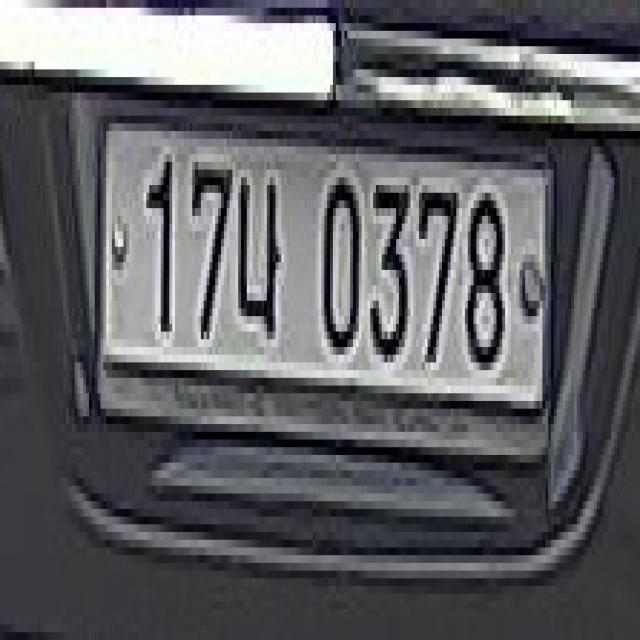0: (318, 162, 364, 362)
1: (138, 139, 184, 347)
3: (365, 170, 416, 370)
7: (187, 146, 236, 354), (416, 177, 459, 370)
8: (465, 177, 511, 378)
license_plate: (89, 100, 560, 463)
na: (238, 162, 281, 347)
